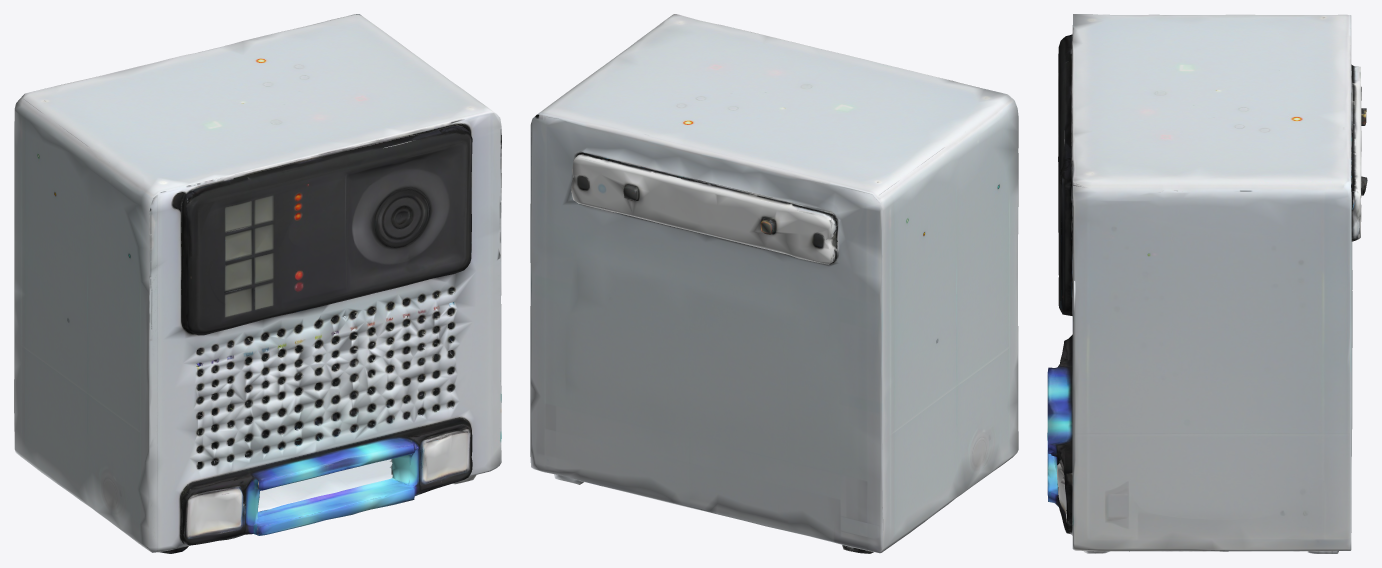
File: Intercom_System_0602085624_texture.glb
The picture shows the model from 3 angles, left to right: view 1: azimuth 30°, elevation 25°; view 2: azimuth 150°, elevation 25°; view 3: azimuth 270°, elevation 25°; orthographic projection. The views are drawn at different scales.
Size of the model in its own units: 2 by 2 by 1.53.
1 material, 1 textured.
